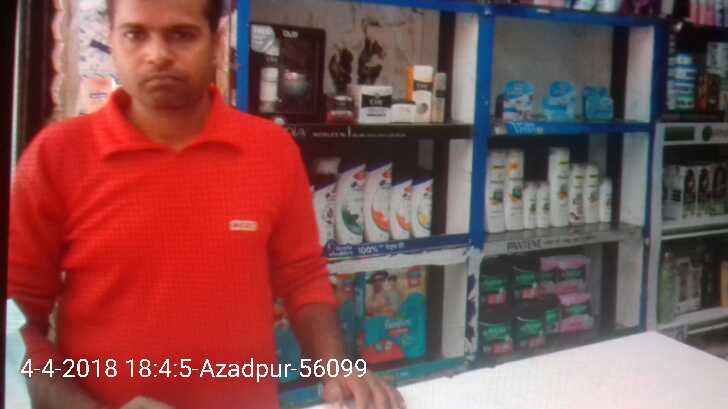venus: (497, 79, 534, 120), (543, 80, 577, 120), (583, 87, 613, 118)
